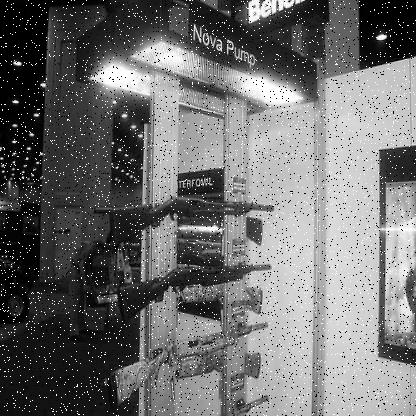rifle: (91, 178, 288, 258), (111, 315, 275, 411), (114, 246, 280, 331)
